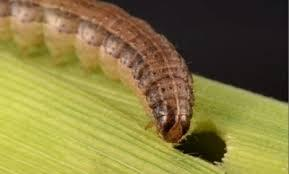fallarmy_worm: (1, 1, 203, 147)
